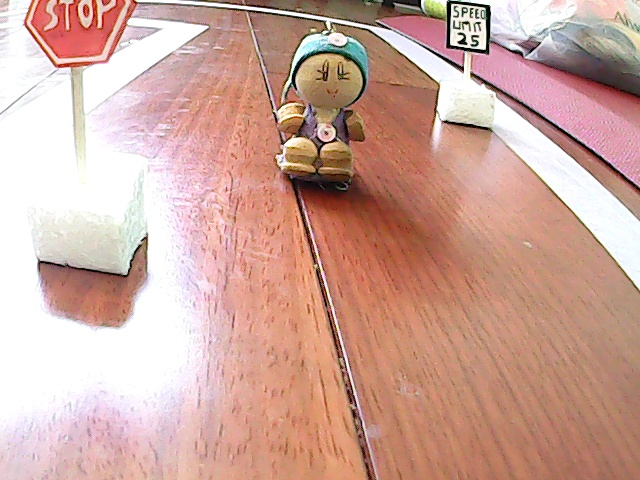pedestrain: (277, 31, 369, 184)
speed_25: (429, 1, 503, 131)
stop: (16, 1, 161, 272)
